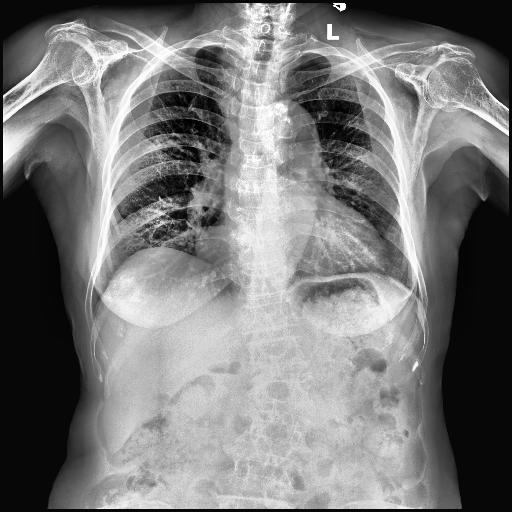0- Aortic enlargement: (261, 96, 326, 176), (262, 96, 322, 162), (266, 102, 321, 161)
3- Cardiomegaly: (195, 206, 385, 276), (192, 217, 388, 279), (192, 218, 384, 278)
